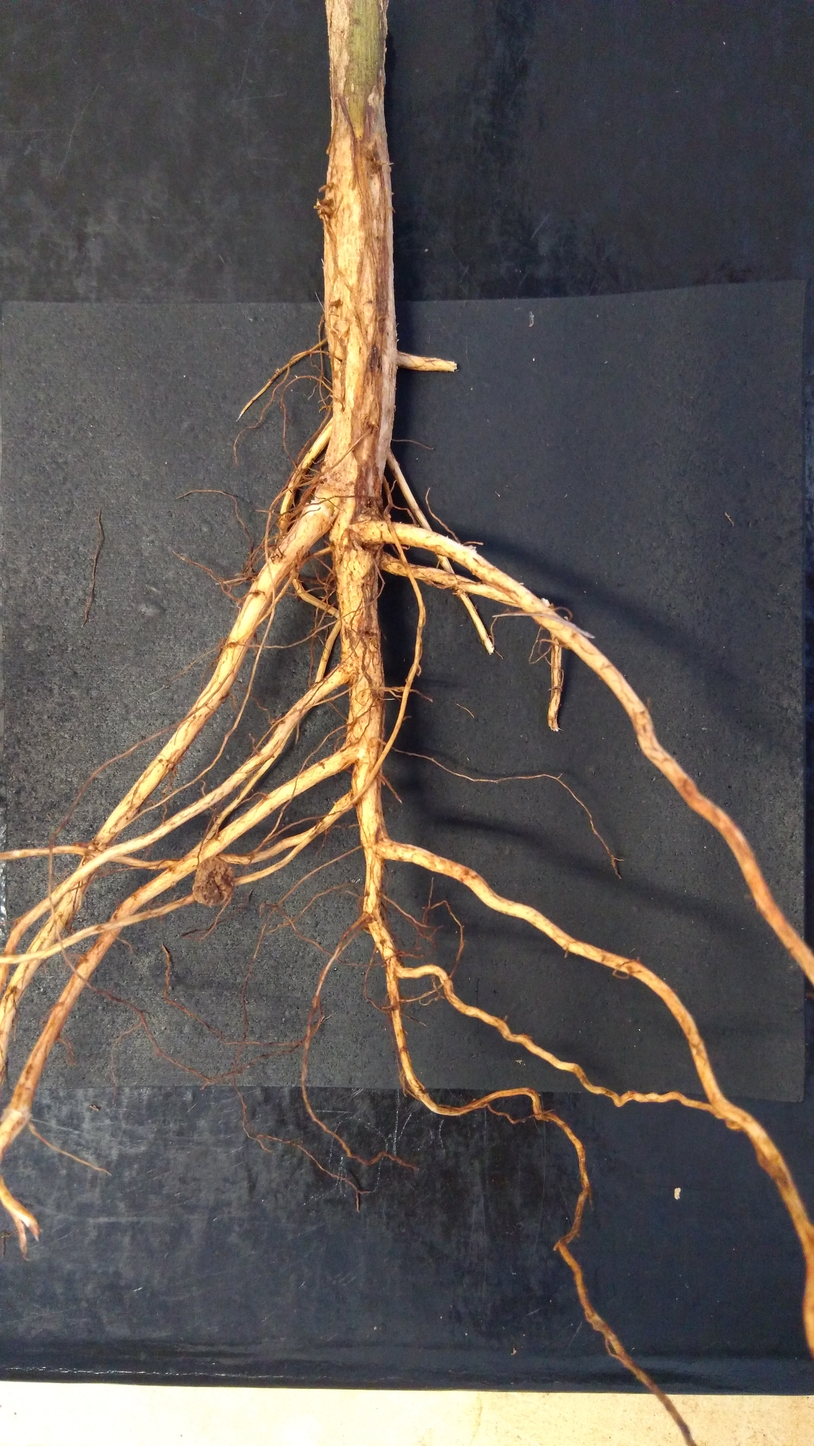nodule: (191, 855, 235, 907), (349, 511, 384, 550), (330, 319, 350, 347), (315, 197, 329, 223), (673, 1186, 681, 1201), (278, 520, 288, 530), (387, 513, 392, 519)
